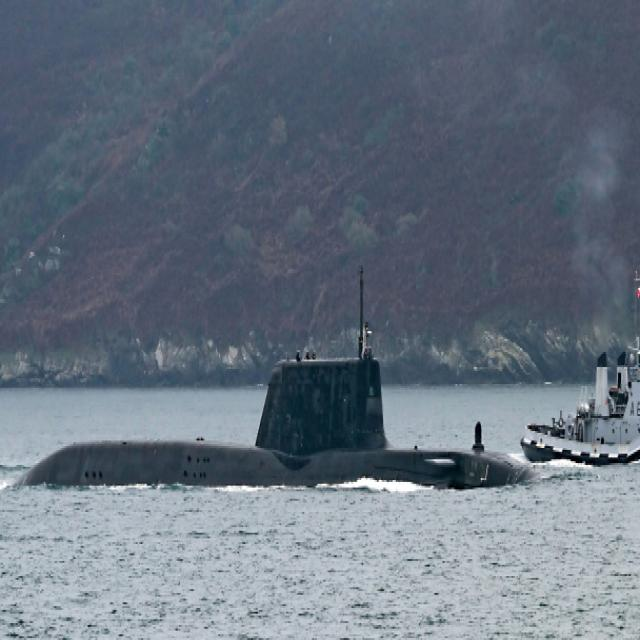submarine: (1, 341, 528, 490)
